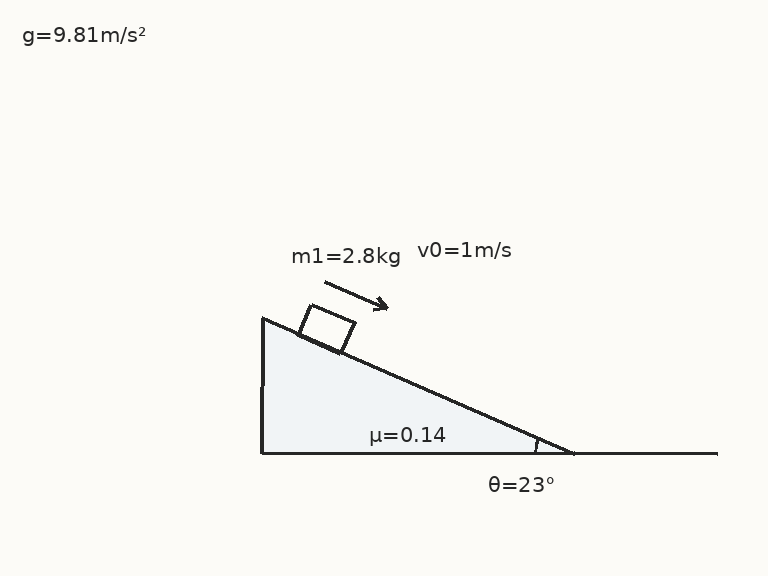block: (296, 302, 356, 355)
ramp: (260, 318, 577, 455)
